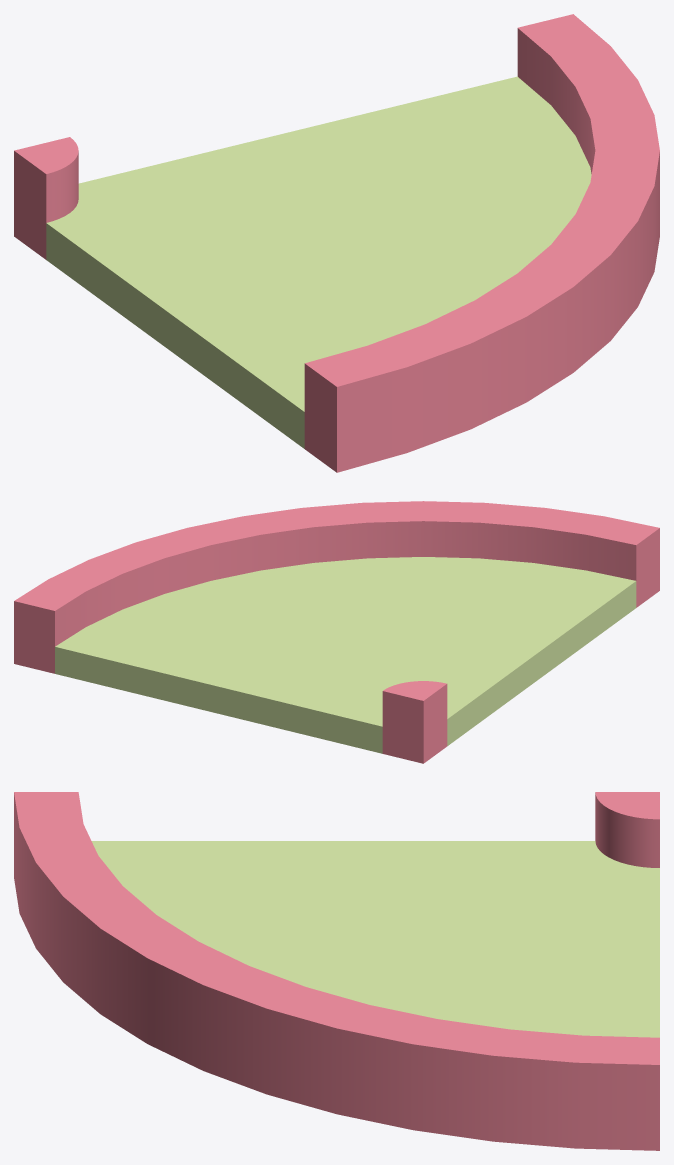
Rendered from roundCornerA.fbx.
3 renders of one model, top to bottom at view 1: azimuth 30°, elevation 25°; view 2: azimuth 150°, elevation 25°; view 3: azimuth 270°, elevation 25°, orthographic. The views are drawn at different scales.
Visible parts, largest first — view 1: roundCornerA; view 2: roundCornerA; view 3: roundCornerA.
Part boxes in pixels (x1=…): roundCornerA: x1=14, y1=14, x2=659, y2=472; roundCornerA: x1=14, y1=501, x2=659, y2=763; roundCornerA: x1=14, y1=792, x2=659, y2=1150.
Bounding box in the file's own units: 99.99 × 14.67 × 99.99.
